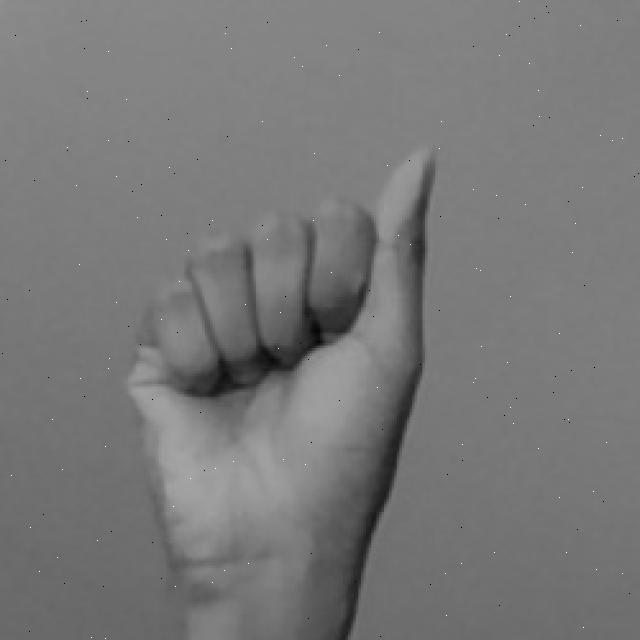A: (118, 138, 458, 640)
